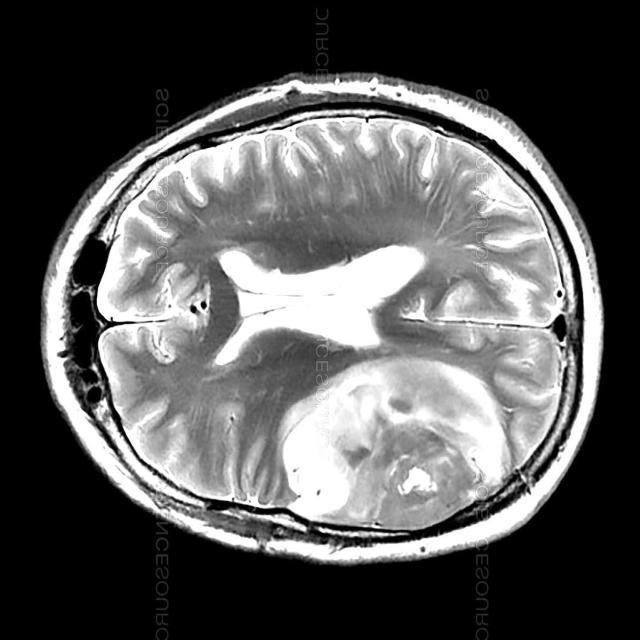tumor: (279, 354, 506, 534), (123, 261, 208, 366)
